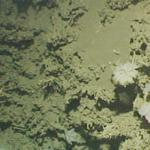dead: (6, 1, 147, 148)
